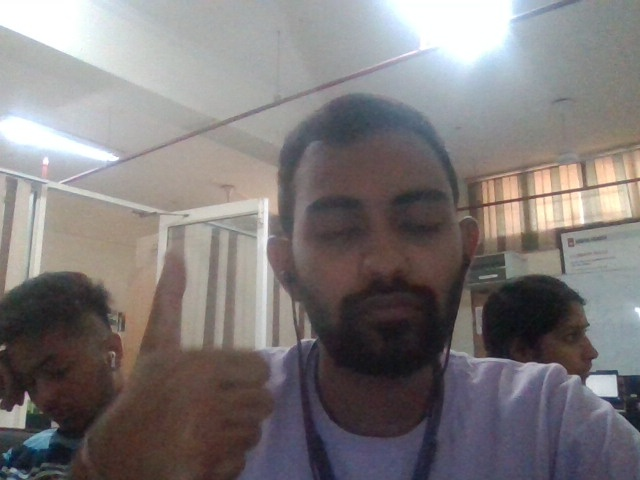Yes: (96, 243, 275, 480)
